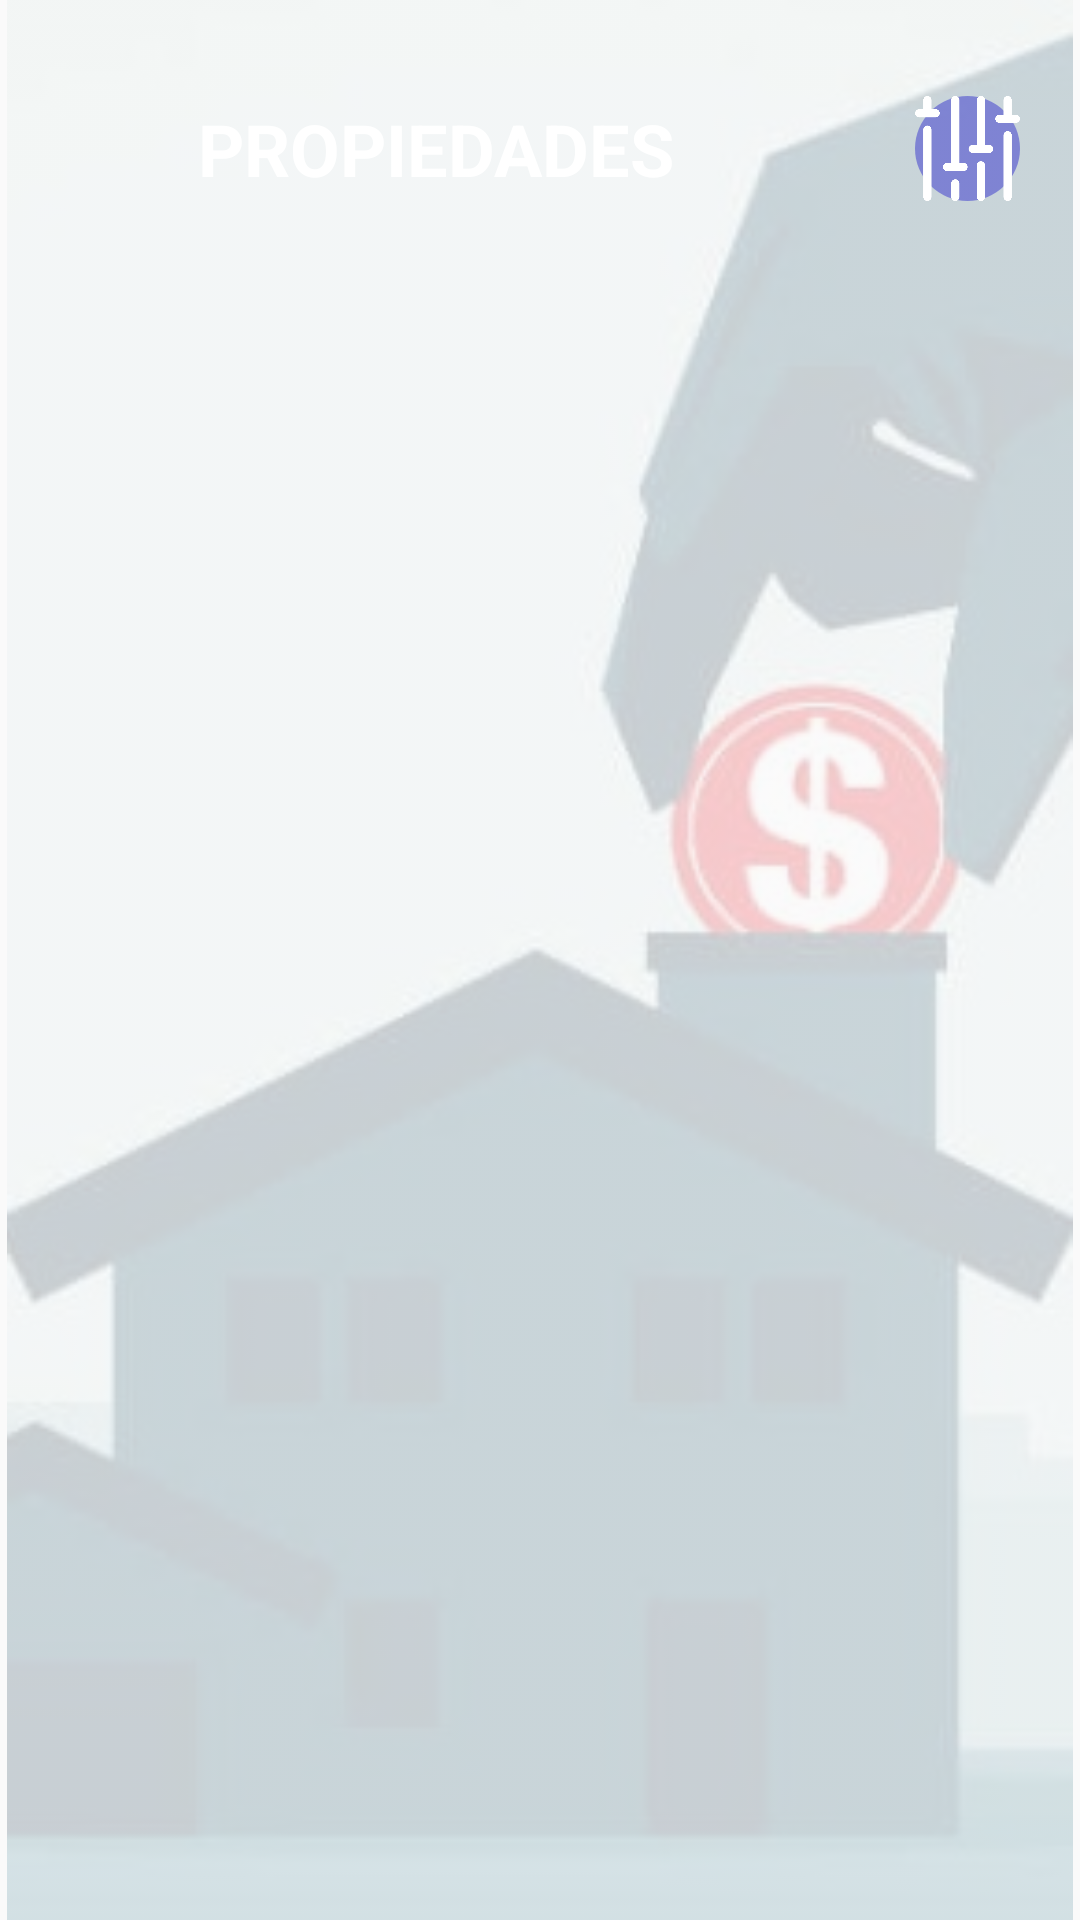

Named icons in this screenshot (1080x1920) and their centers, (x,y):
Es la imagen del botón para acceder a los filtros: (967,148)
